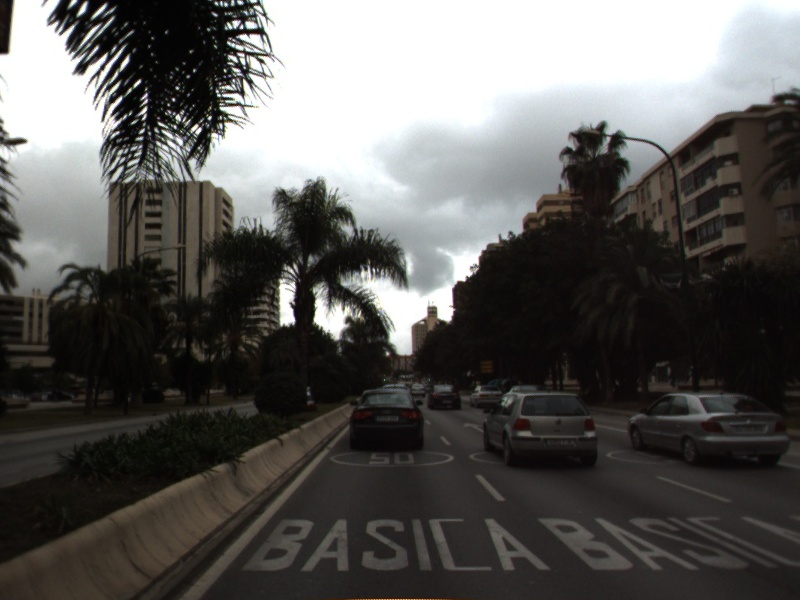STRAIGHT: (461, 419, 484, 433)
